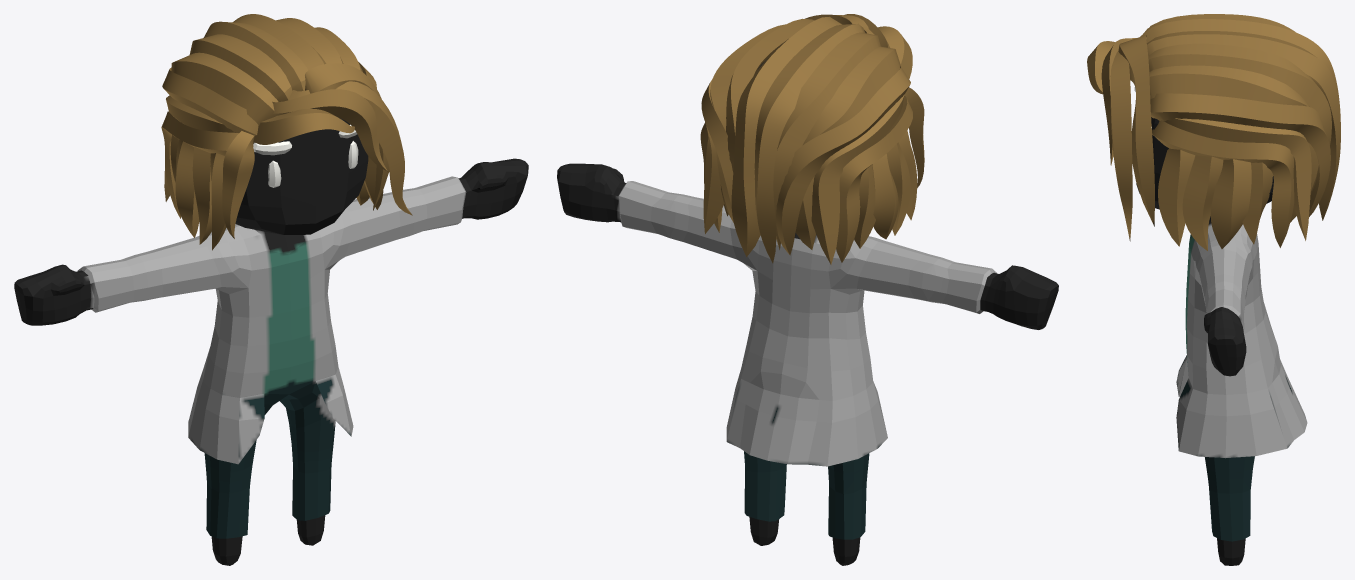
File: Doctor_Female_Young.fbx
The picture shows the model from 3 angles, left to right: view 1: azimuth 30°, elevation 25°; view 2: azimuth 150°, elevation 25°; view 3: azimuth 270°, elevation 25°; orthographic projection. The views are drawn at different scales.
Visible parts, largest first — view 1: Body; view 2: Body; view 3: Body.
Boxes of the visible parts, x1,y1,x2,y2 form: Body: (14, 14, 528, 565); Body: (557, 14, 1058, 565); Body: (1087, 14, 1340, 565).
Bounding box in the file's own units: 324 × 320 × 142.
1 material, 1 textured.
